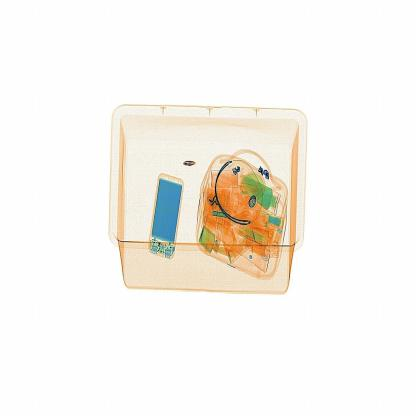wrench: (178, 155, 200, 169)
